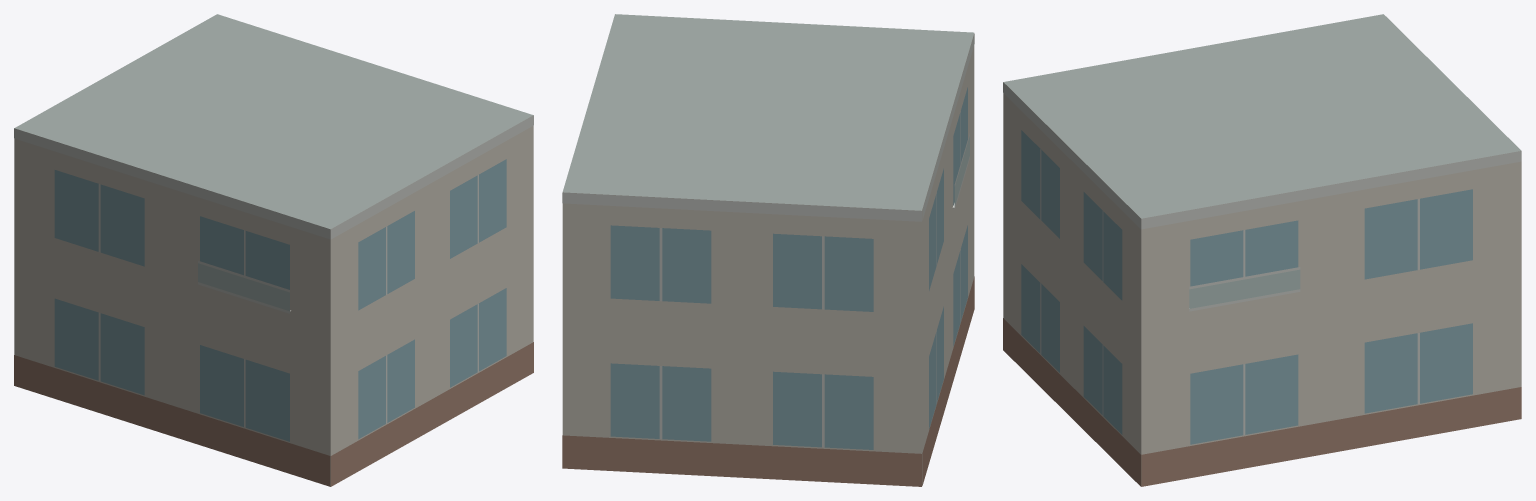
Rendered from survey-upis-32941165.glb.
3 renders of one model, left to right at view 1: azimuth 30°, elevation 25°; view 2: azimuth 150°, elevation 25°; view 3: azimuth 270°, elevation 25°, orthographic. The views are drawn at different scales.
Parts seen in each view (by area): view 1: survey-upis-32941165.tmp; view 2: survey-upis-32941165.tmp; view 3: survey-upis-32941165.tmp.
Part boxes in pixels (x1,y1,x2,y2): survey-upis-32941165.tmp: (14,14,533,486); survey-upis-32941165.tmp: (562,14,974,486); survey-upis-32941165.tmp: (1003,14,1521,486).
Size of the model in its own units: 10 by 6.1 by 10.7.
